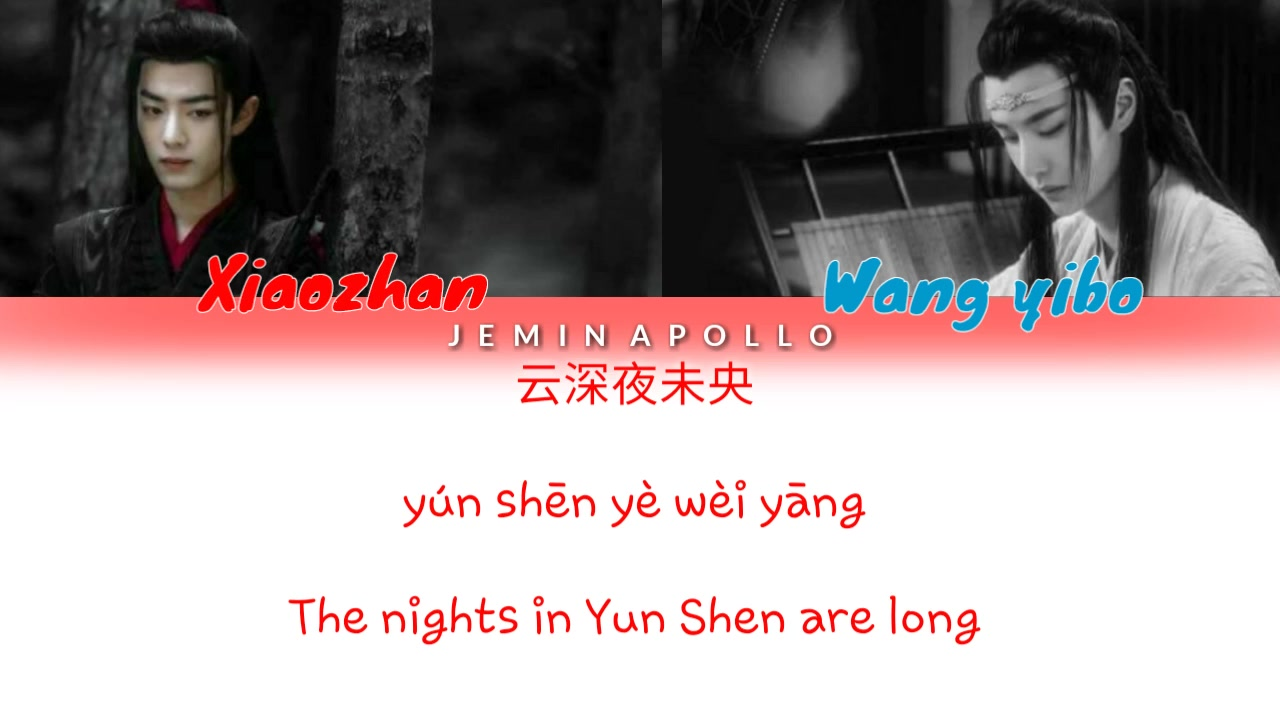text-label: (286, 592, 986, 650)
